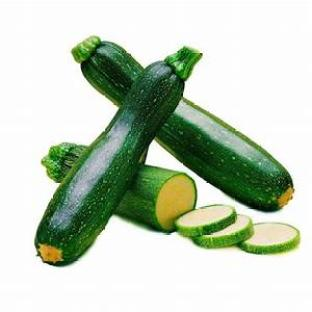Zucchini: (36, 47, 201, 265), (156, 98, 293, 211), (115, 165, 196, 232), (175, 204, 236, 237), (193, 215, 253, 248), (239, 223, 300, 253)
